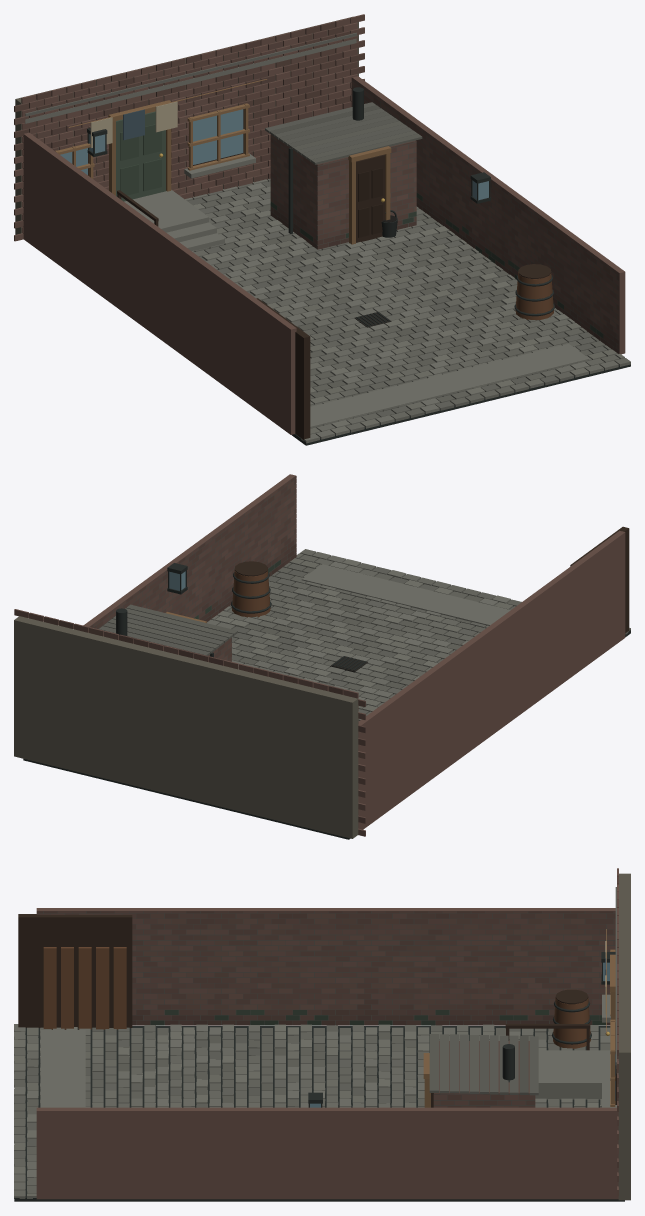
The model's file is lantern-yard.glb.
The picture shows the model from 3 angles, top to bottom: view 1: azimuth 30°, elevation 25°; view 2: azimuth 150°, elevation 25°; view 3: azimuth 270°, elevation 25°; orthographic projection. The views are drawn at different scales.
Parts seen in each view (by area): view 1: lantern-yard-brick, lantern-yard-stone, lantern-yard-woodDark, lantern-yard-woodLight, lantern-yard-green, lantern-yard-iron, lantern-yard-glass, lantern-yard-plaster, lantern-yard-wood, lantern-yard-linen; view 2: lantern-yard-plaster, lantern-yard-brick, lantern-yard-stone, lantern-yard-iron, lantern-yard-wood, lantern-yard-woodDark; view 3: lantern-yard-brick, lantern-yard-stone, lantern-yard-woodDark, lantern-yard-iron, lantern-yard-wood, lantern-yard-plaster, lantern-yard-green, lantern-yard-woodLight.
Part boxes in pixels (box(x1,y1,x2,y2)): lantern-yard-brick: box(14, 14, 625, 434); lantern-yard-stone: box(25, 32, 630, 443); lantern-yard-woodDark: box(88, 109, 551, 439); lantern-yard-woodLight: box(55, 79, 391, 244); lantern-yard-green: box(116, 111, 603, 338); lantern-yard-iron: box(87, 87, 630, 445); lantern-yard-glass: box(60, 109, 488, 200); lantern-yard-plaster: box(15, 16, 358, 234); lantern-yard-wood: box(515, 272, 553, 320); lantern-yard-linen: box(90, 101, 177, 148); lantern-yard-plaster: box(14, 616, 358, 838); lantern-yard-brick: box(14, 474, 625, 836); lantern-yard-stone: box(90, 476, 630, 721); lantern-yard-iron: box(23, 563, 630, 839); lantern-yard-wood: box(232, 569, 270, 617); lantern-yard-woodDark: box(234, 526, 629, 632); lantern-yard-brick: box(36, 868, 618, 1199); lantern-yard-stone: box(14, 887, 618, 1198); lantern-yard-woodDark: box(18, 914, 616, 1107); lantern-yard-iron: box(14, 952, 624, 1201); lantern-yard-wood: box(43, 947, 590, 1048); lantern-yard-plaster: box(618, 873, 630, 1200); lantern-yard-green: box(150, 1010, 605, 1025); lantern-yard-woodLight: box(423, 929, 615, 1107).
Size of the model in its own units: 10.78 by 4.28 by 15.16.
